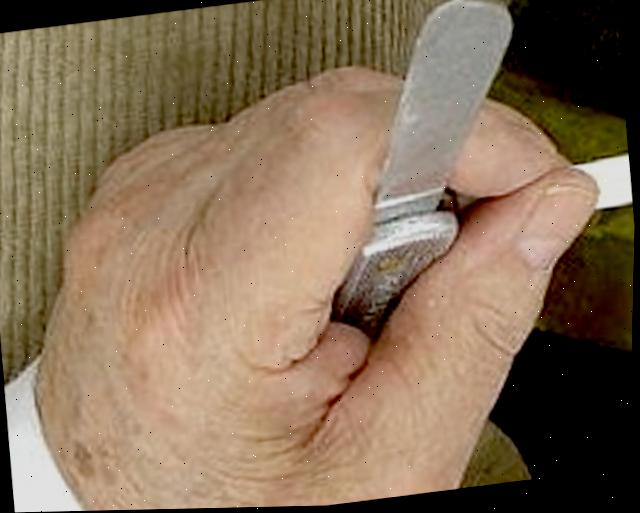pocket-knife: (281, 0, 550, 367)
